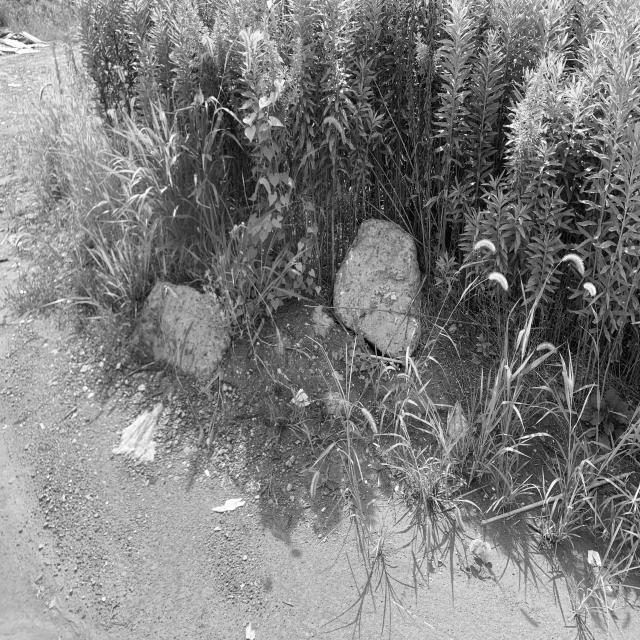Stone: (334, 218, 421, 356), (130, 282, 228, 374)
